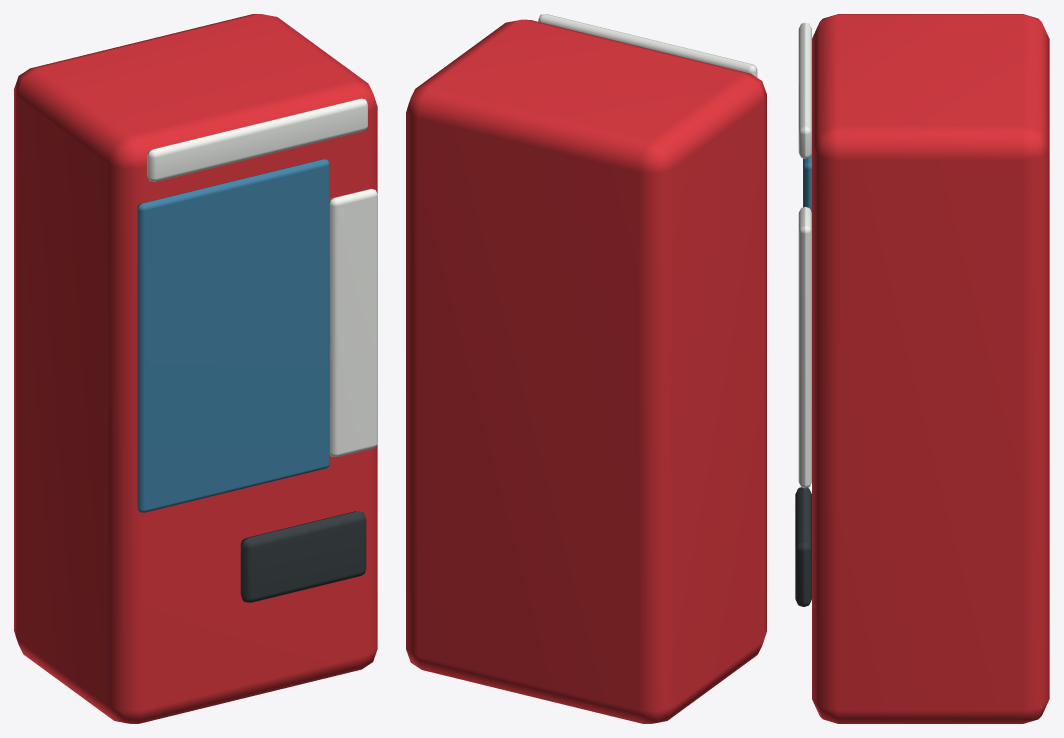
The model's file is Environment_Japanese_Vending_Machine.fbx.
3 renders of one model, left to right at view 1: azimuth 30°, elevation 25°; view 2: azimuth 150°, elevation 25°; view 3: azimuth 270°, elevation 25°, orthographic. The views are drawn at different scales.
Parts seen in each view (by area): view 1: Vending_Machine_Cabinet, Vending_Display_Glass, Vending_Control_Panel, Vending_Dispenser, Vending_Top_Light; view 2: Vending_Machine_Cabinet, Vending_Top_Light; view 3: Vending_Machine_Cabinet, Vending_Control_Panel, Vending_Dispenser, Vending_Top_Light, Vending_Display_Glass.
Part boxes in pixels (x1,y1,x2,y2): Vending_Machine_Cabinet: (14, 14, 377, 723); Vending_Display_Glass: (137, 159, 329, 512); Vending_Control_Panel: (329, 189, 377, 456); Vending_Dispenser: (240, 511, 366, 602); Vending_Top_Light: (147, 98, 367, 181); Vending_Machine_Cabinet: (406, 19, 766, 723); Vending_Top_Light: (538, 14, 757, 77); Vending_Machine_Cabinet: (812, 14, 1049, 723); Vending_Control_Panel: (798, 206, 811, 488); Vending_Dispenser: (795, 487, 811, 606); Vending_Top_Light: (798, 22, 811, 158); Vending_Display_Glass: (803, 153, 811, 212).
Size of the model in its own units: 0.95 by 2 by 0.77.
